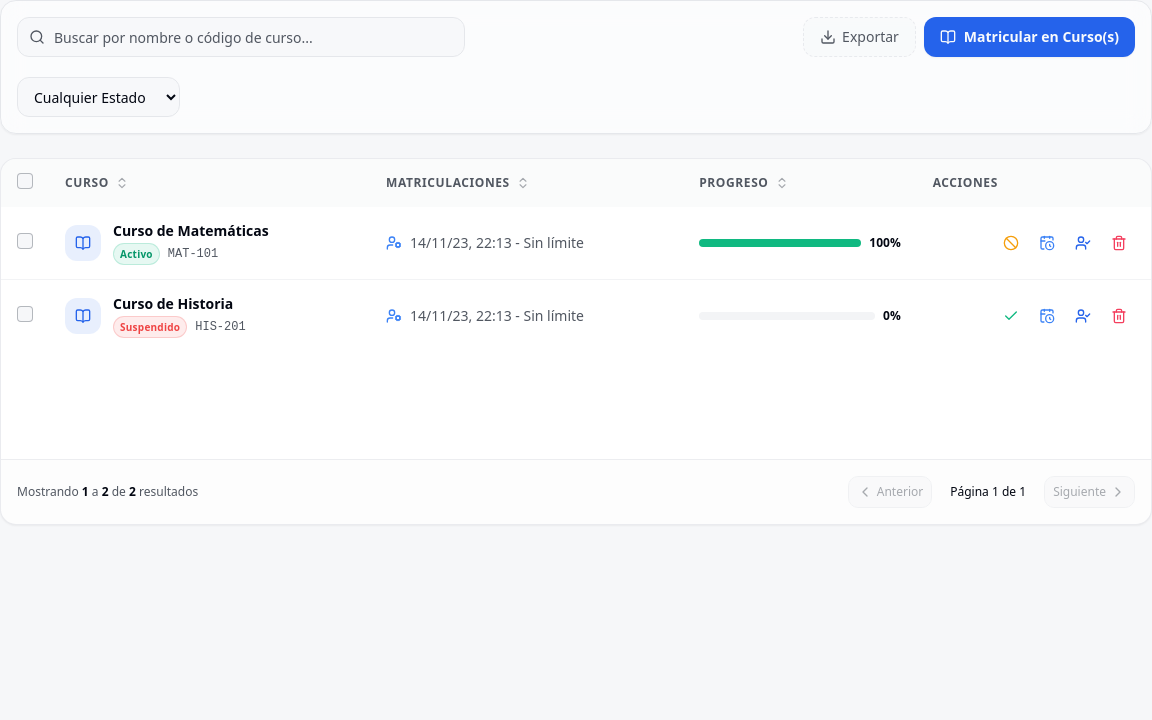
Test case: Refactor Vista Detalle de Usuario › UserCoursesTab filtra cursos por texto y por estado correctamente
The width and height of the screenshot is (1152, 720).
Filtrar por texto "Matemáticas"
Type "Matemáticas" into the search field with placeholder "Buscar por nombre o código de curso..." at (241, 37), box [17,17,465,57]
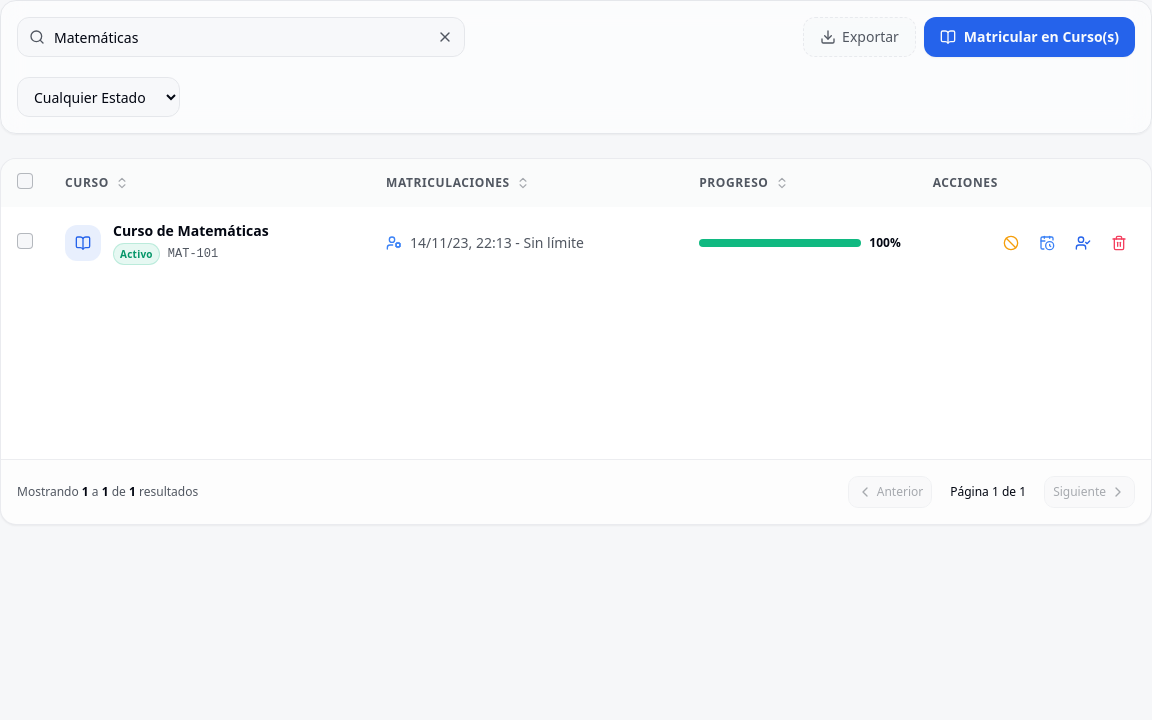
Check: the text "Curso de Matemáticas" is shown, box [113,221,269,241]
Check: the text "Curso de Historia" is gone
Limpiar búsqueda
Clear the search field with placeholder "Buscar por nombre o código de curso..." at (241, 37), box [17,17,465,57]
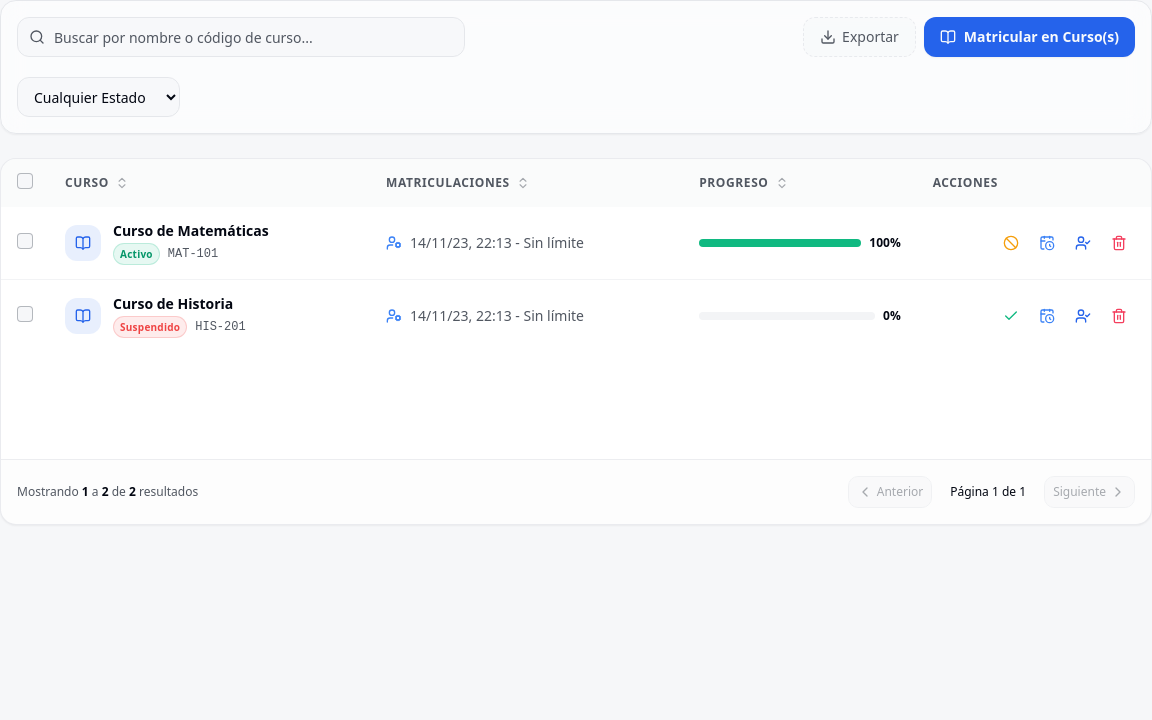
Check: the text "Curso de Historia" is shown, box [113,294,246,314]
Filtrar por estado "Solo Suspendidos" ('1')
Select "Solo Suspendidos" in the dropdown named "Filtrar por Estado" at (98, 97), box [17,77,180,117]
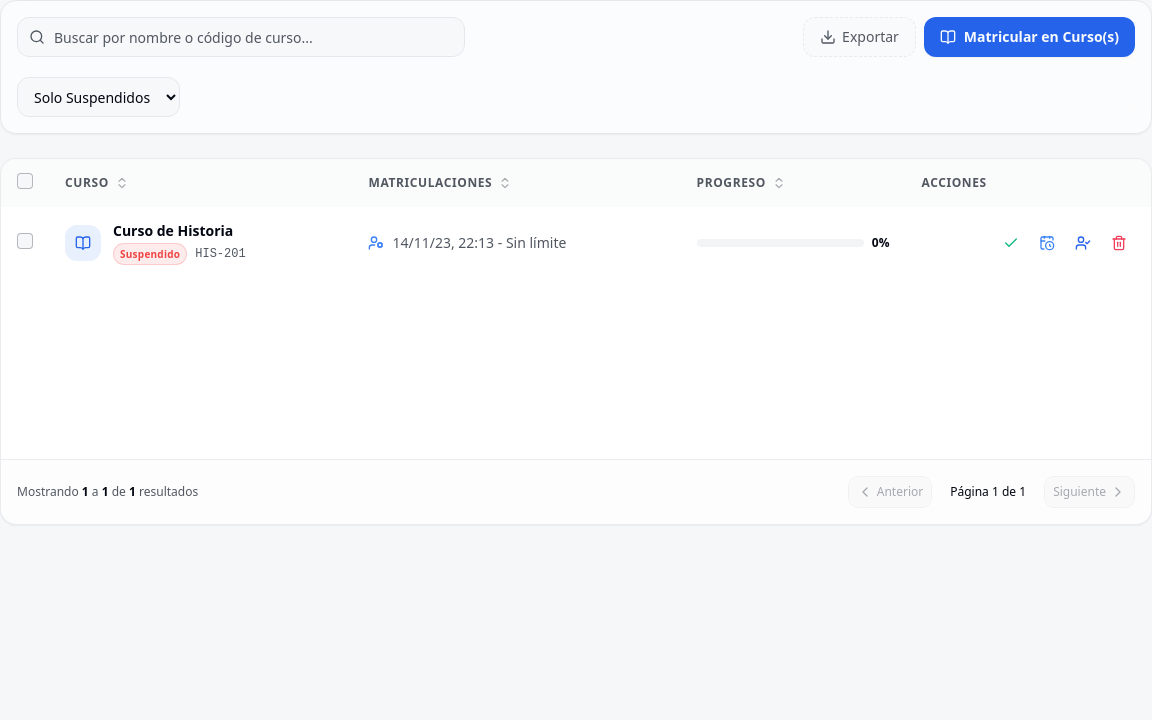
Check: the text "Curso de Historia" is shown, box [113,221,246,241]
Check: the text "Curso de Matemáticas" is gone
